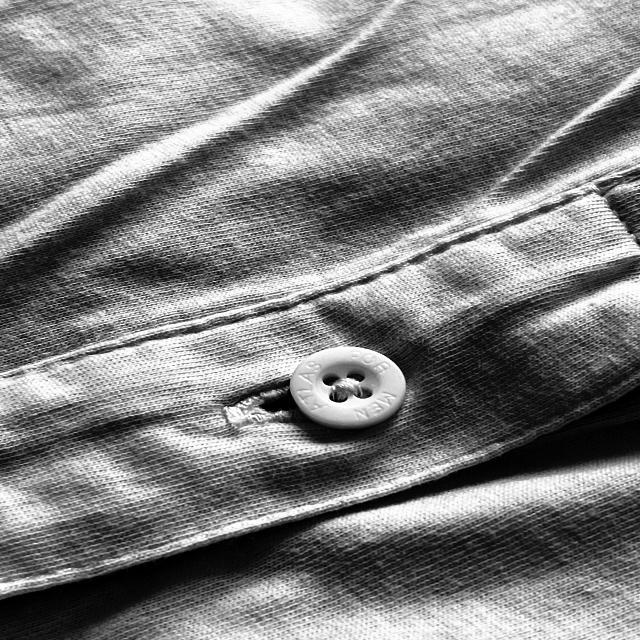Button_hike: (222, 335, 421, 437)
